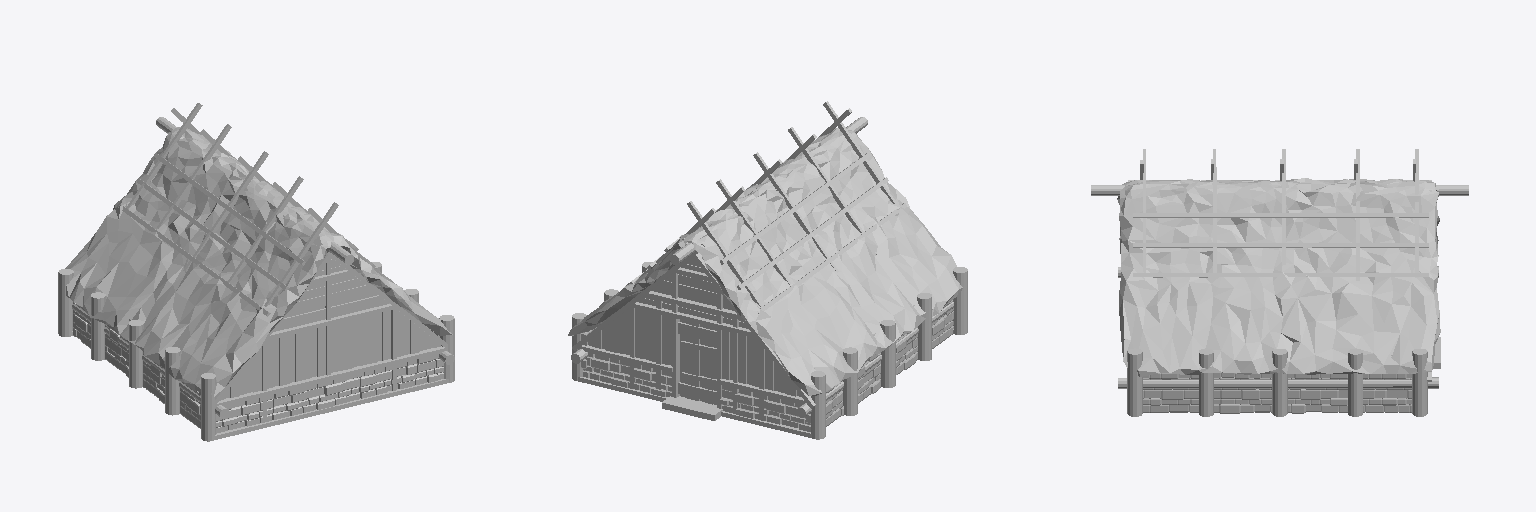
Rendered from lowpoly_viking_house_002.obj.
3 renders of one model, left to right at view 1: azimuth 30°, elevation 25°; view 2: azimuth 150°, elevation 25°; view 3: azimuth 270°, elevation 25°, orthographic.
Visible parts, largest first — view 1: Plane.012, Wall.157, Cube.2122, Cube.2010, Cylinder.084, Cube.2142, Cylinder.085, Cube.2141, Cube.2118, Cylinder.078, Cylinder.041, Cylinder.077 (+12 smaller); view 2: Plane.012, Wall.157, Cube.2126, Cube.2108, Cube.2142, Cylinder.085, Cube.2141, Cylinder.078, Cylinder.084, Cylinder.041, Cylinder.077, Cube.2102 (+13 smaller); view 3: Plane.012, Wall.157, Cylinder.081, Cube.2137, Cube.2138, Cube.2139, Cylinder.083, Cylinder.086, Cylinder.079, Cylinder.074, Cylinder.048, Cylinder.082.
Boxes of the visible parts, x1,y1,x2,y2 form: Plane.012: [65, 127, 452, 396]; Wall.157: [73, 280, 443, 433]; Cube.2122: [215, 346, 447, 407]; Cube.2010: [215, 379, 448, 439]; Cylinder.084: [201, 373, 215, 441]; Cube.2142: [153, 153, 305, 265]; Cylinder.085: [58, 269, 73, 336]; Cube.2141: [137, 178, 288, 290]; Cube.2118: [266, 304, 395, 340]; Cylinder.078: [129, 320, 143, 388]; Cylinder.041: [165, 347, 180, 415]; Cylinder.077: [91, 292, 105, 360]; Plane.012: [568, 128, 962, 395]; Wall.157: [581, 300, 953, 431]; Cube.2126: [678, 320, 716, 404]; Cube.2108: [578, 377, 811, 437]; Cube.2142: [720, 152, 871, 264]; Cylinder.085: [811, 371, 825, 439]; Cube.2141: [737, 177, 888, 289]; Cylinder.078: [880, 320, 895, 387]; Cylinder.084: [953, 267, 967, 334]; Cylinder.041: [917, 293, 931, 360]; Cylinder.077: [843, 347, 857, 415]; Cube.2102: [631, 302, 754, 337]; Plane.012: [1117, 178, 1440, 376]; Wall.157: [1143, 355, 1411, 413]; Cylinder.081: [1118, 377, 1438, 388]; Cube.2137: [1133, 213, 1428, 217]; Cube.2138: [1133, 243, 1428, 247]; Cube.2139: [1133, 273, 1428, 277]; Cylinder.083: [1127, 348, 1142, 416]; Cylinder.086: [1412, 349, 1427, 416]; Cylinder.079: [1272, 349, 1287, 416]; Cylinder.074: [1348, 349, 1362, 416]; Cylinder.048: [1199, 348, 1213, 416]; Cylinder.082: [1091, 185, 1468, 195].
Bounding box in the file's own units: 3.87 × 2.92 × 4.92.